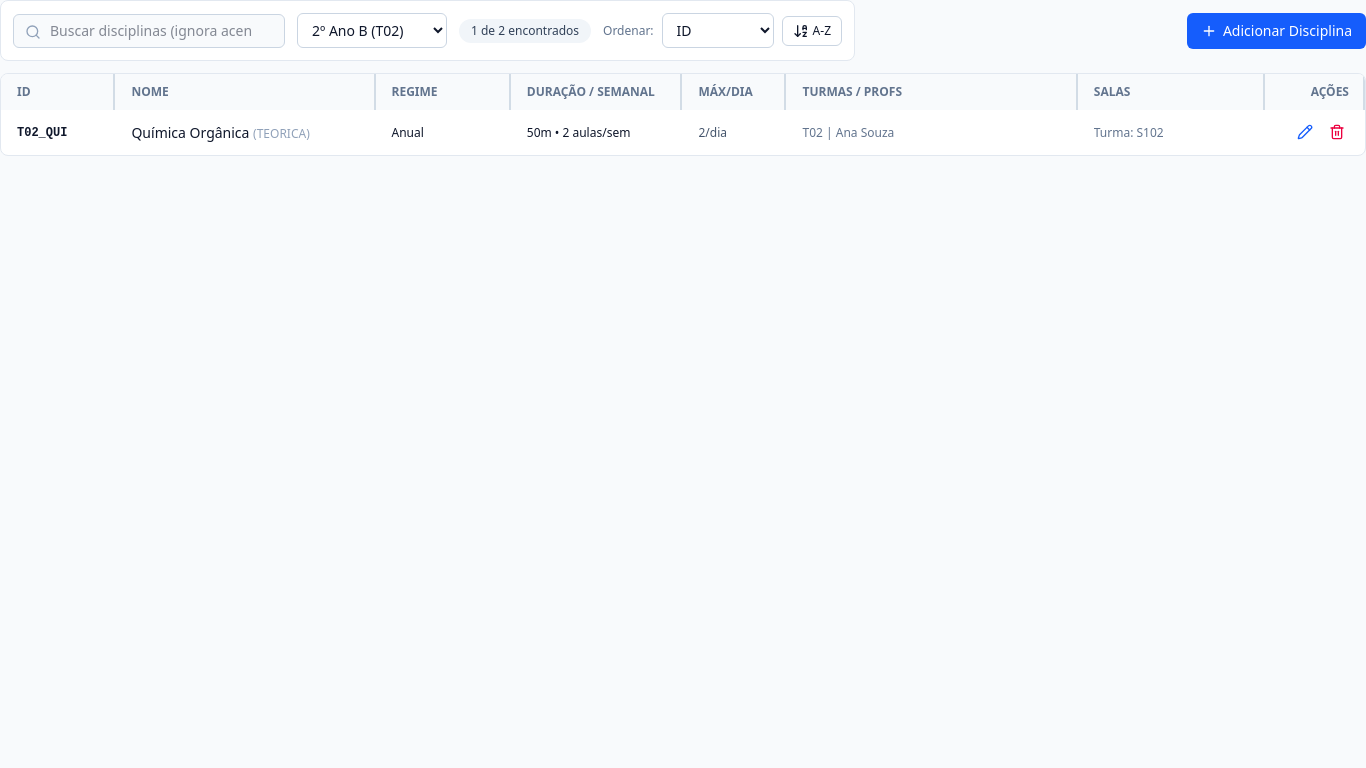
it: DisciplinasTab › filters disciplinas by turma selector, supports searching by turma name, clears filters, and preselects filtered turma on create
The width and height of the screenshot is (1366, 768).
Earlier steps of the test are not shown.
Expected: the text "Física" is not shown
Expected: the text "Química Orgânica" is shown, x1=131 y1=122 x2=249 y2=142
Type "Inexistente" into the field with placeholder "Buscar disciplinas (ignora acentos)..." at (149, 30), box x1=13 y1=14 x2=285 y2=48
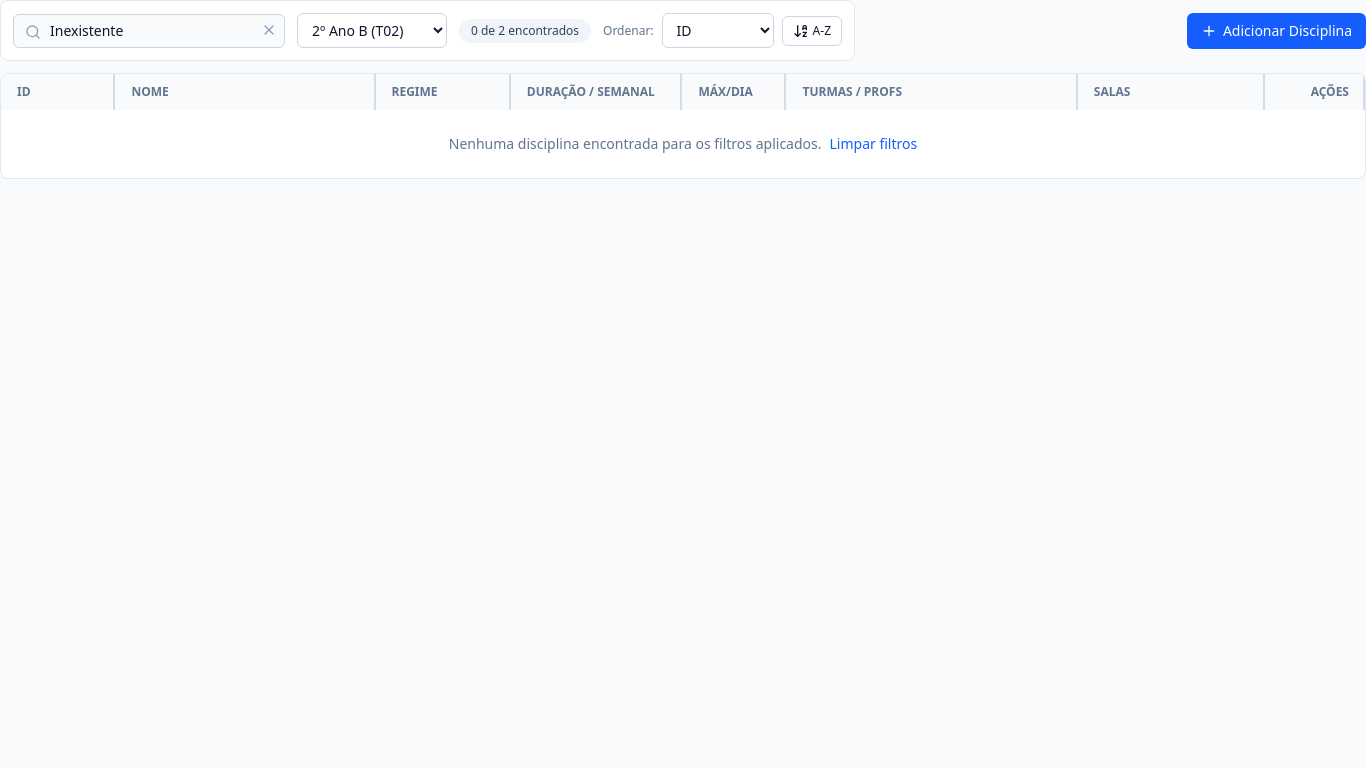
Now the text "Nenhuma disciplina encontrada para os filtros aplicados." is shown, box x1=449 y1=134 x2=822 y2=153
Click the button "Limpar filtros" at (873, 144), box x1=830 y1=134 x2=917 y2=154
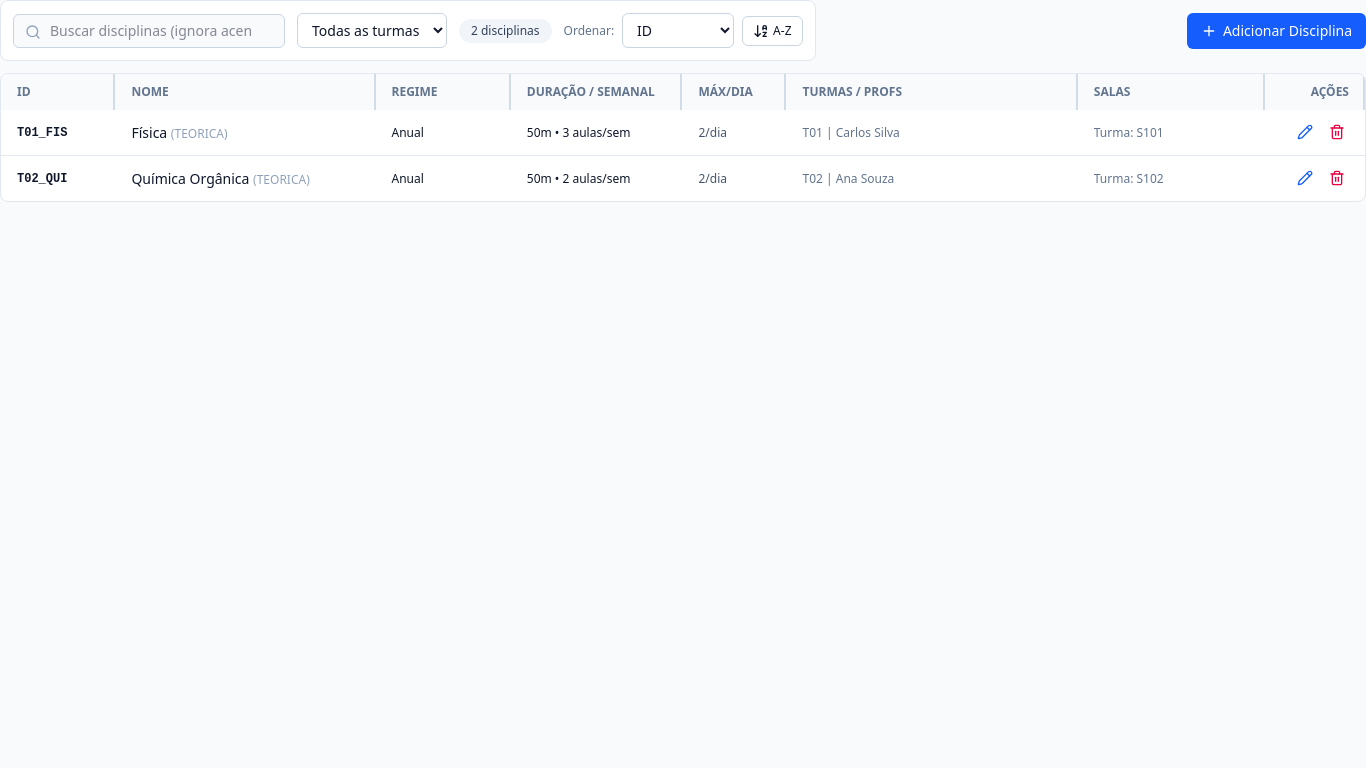
Now the text "Física" is shown, box x1=131 y1=122 x2=167 y2=142
Now the text "Química Orgânica" is shown, box x1=131 y1=168 x2=249 y2=188
Search by turma name ("2º Ano B") in text search
Type "2º Ano B" into the field with placeholder "Buscar disciplinas (ignora acentos)..." at (149, 30), box x1=13 y1=14 x2=285 y2=48
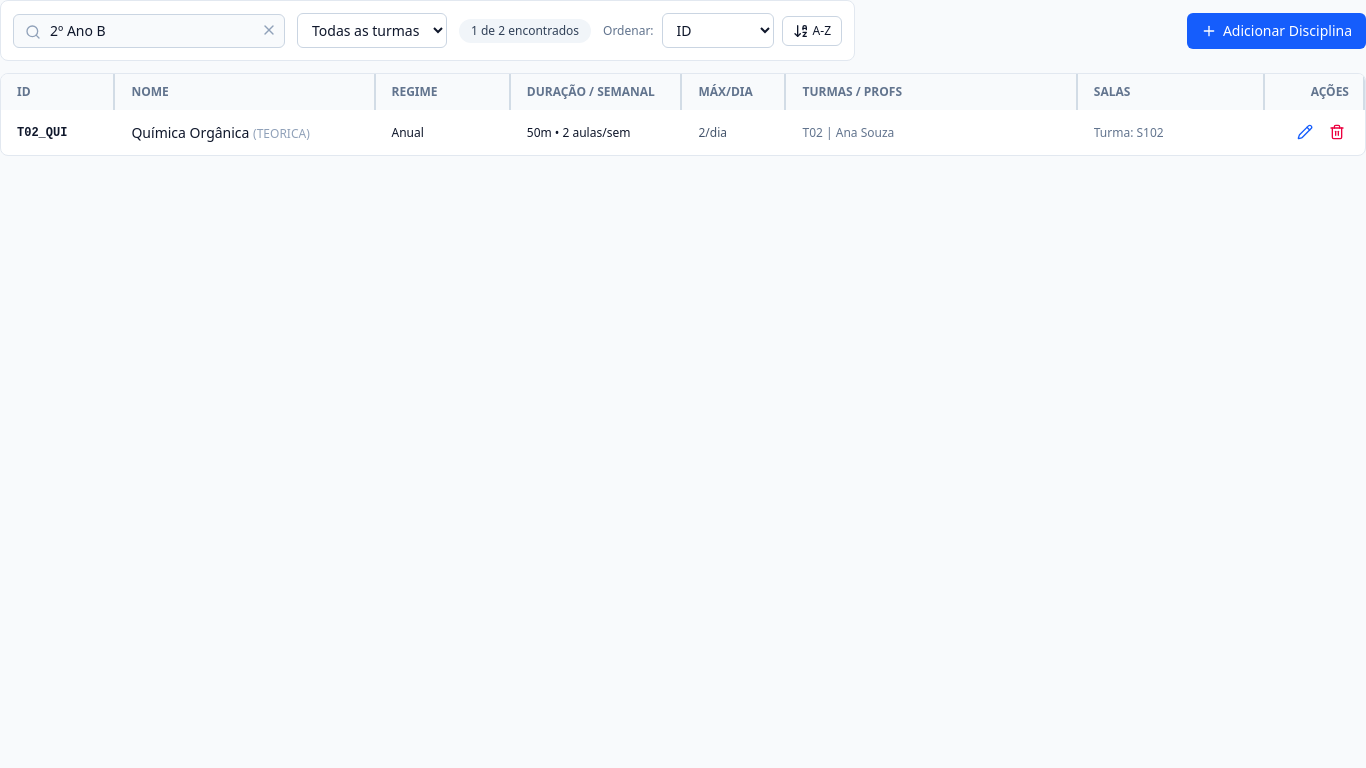
Now the text "Química Orgânica" is shown, box x1=131 y1=122 x2=249 y2=142
Now the text "Física" is gone
Clear the field with placeholder "Buscar disciplinas (ignora acentos)..." at (149, 30), box x1=13 y1=14 x2=285 y2=48
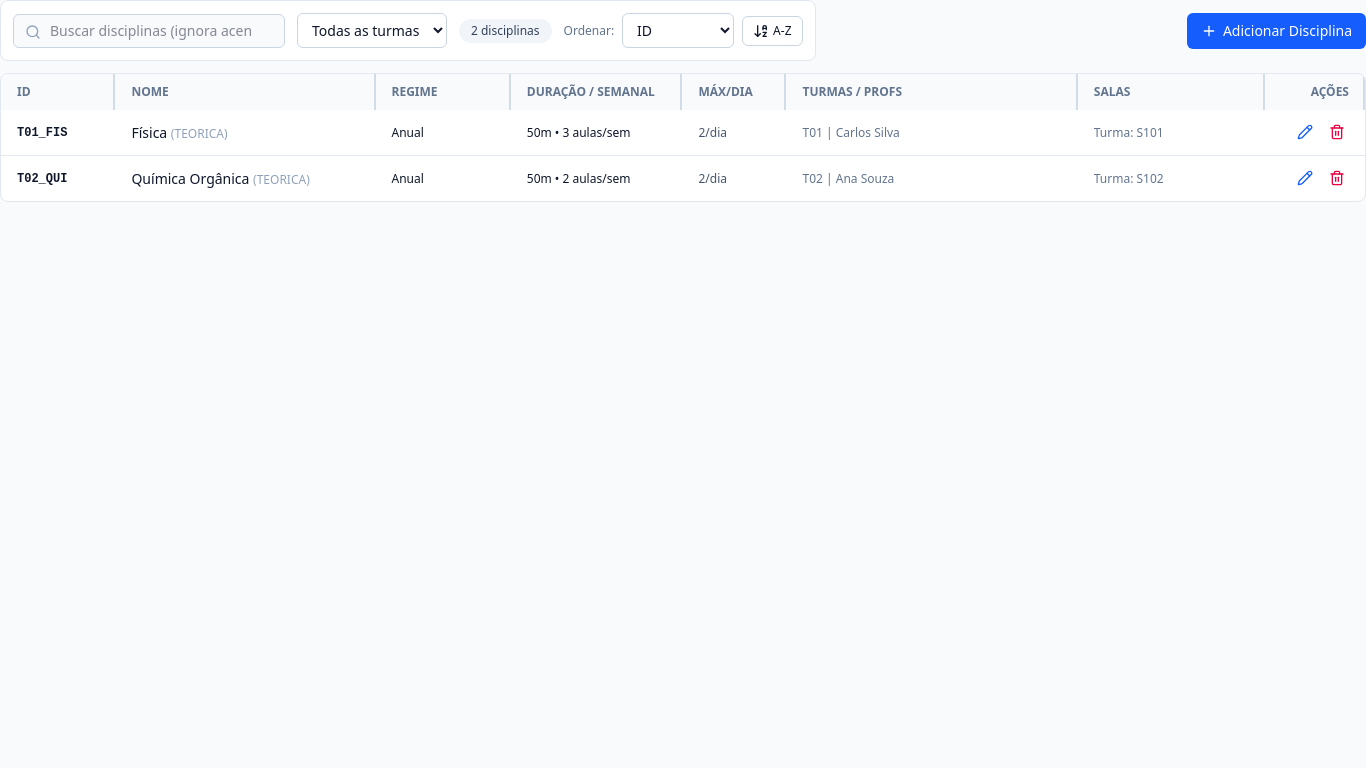
Select "2º Ano B (T02)" in the dropdown named "Filtrar por turma" at (372, 30), box x1=297 y1=13 x2=447 y2=48
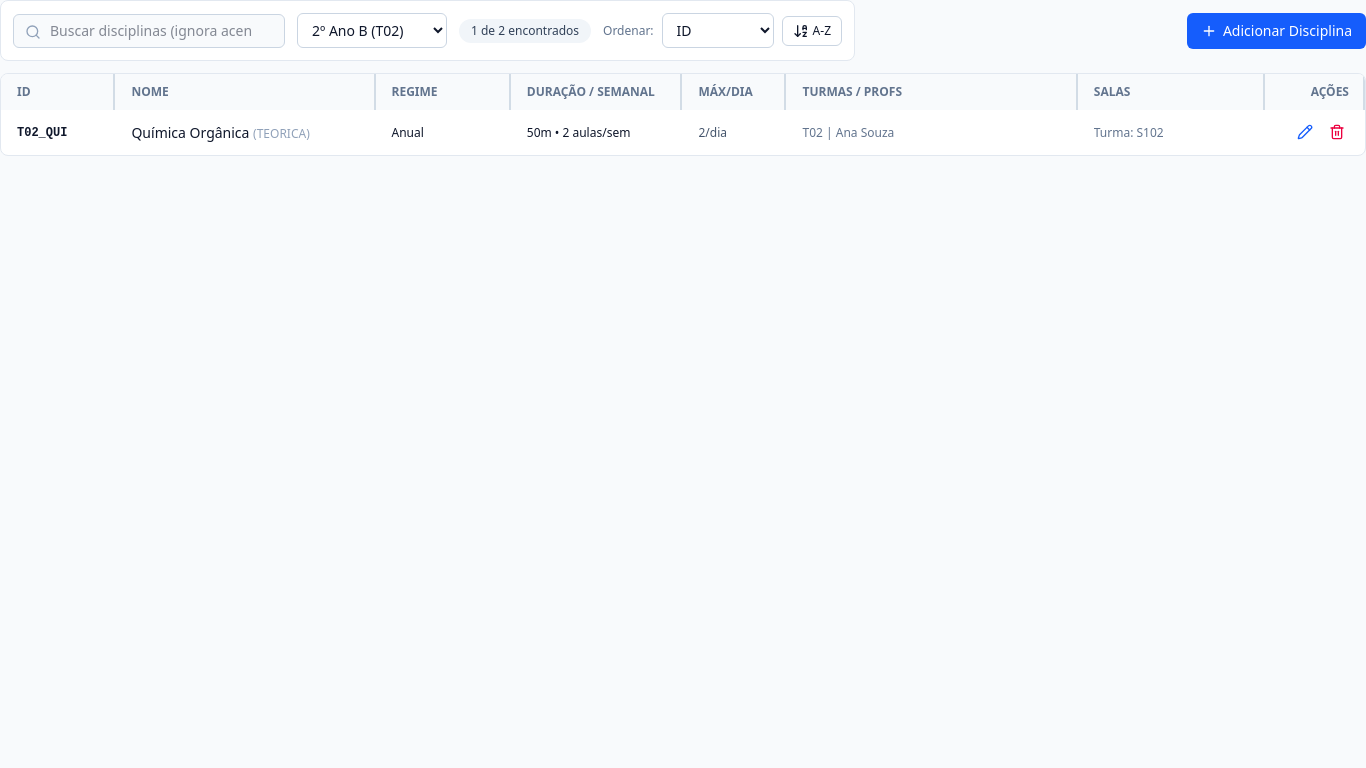
Click the button "Adicionar Disciplina" at (1276, 30), box x1=1187 y1=12 x2=1365 y2=48
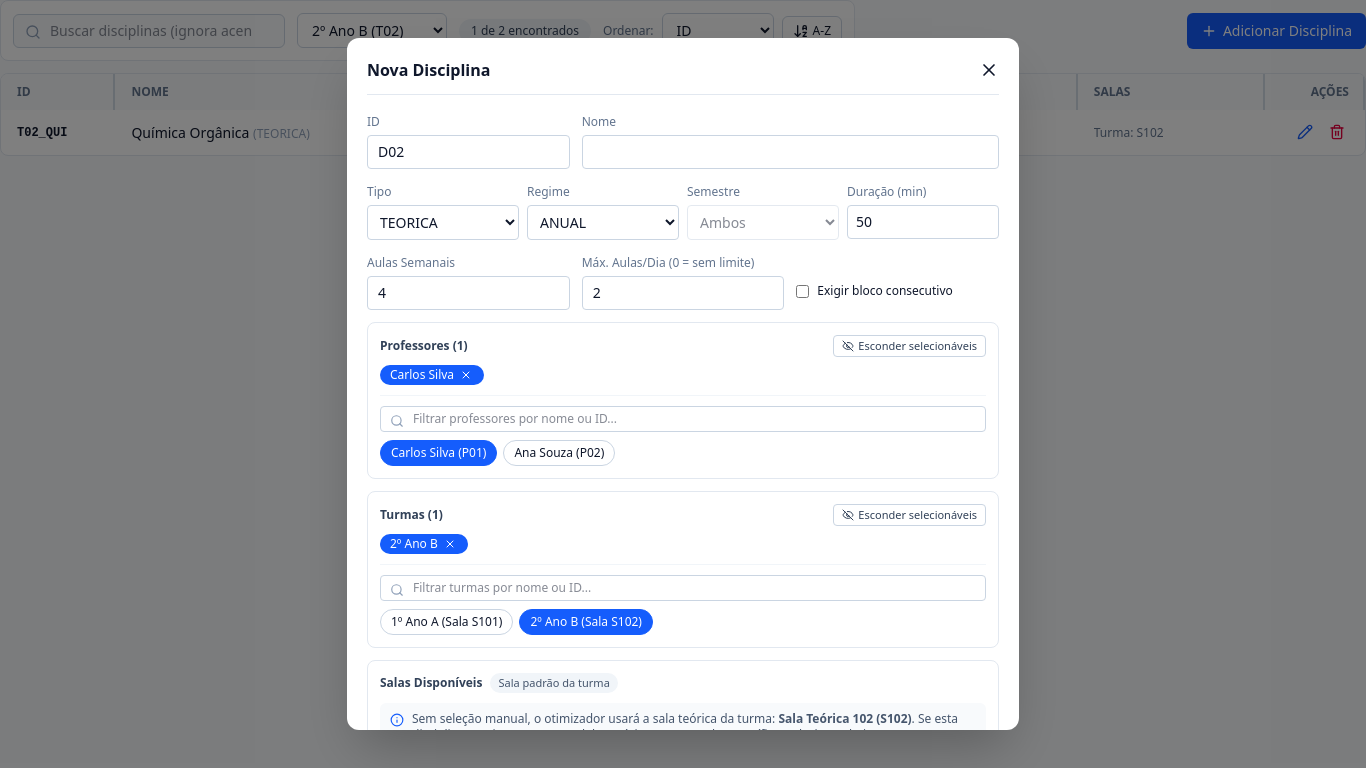
Now the heading "Nova Disciplina" is shown, box x1=367 y1=58 x2=490 y2=82
Now the button named "Remover 2º Ano B" is shown, box x1=442 y1=536 x2=458 y2=552
